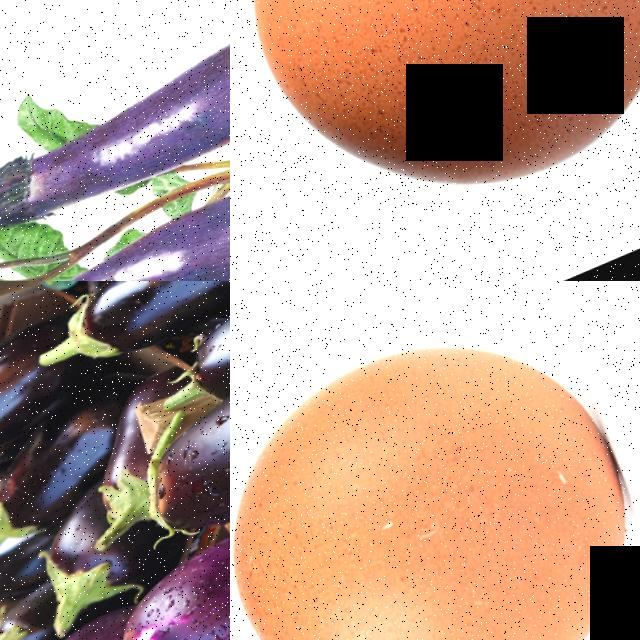egg_: (230, 281, 640, 640), (230, 0, 640, 281)
eggplant: (0, 0, 230, 250), (0, 151, 230, 281), (113, 320, 230, 565), (0, 373, 150, 557), (38, 281, 230, 378), (0, 324, 69, 481)
